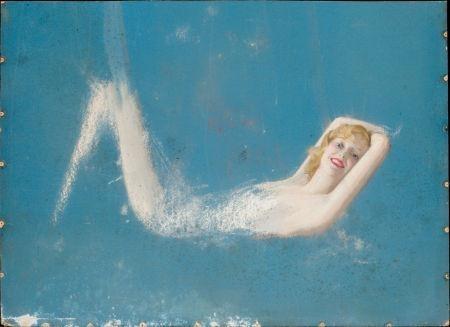person: (73, 82, 387, 244)
